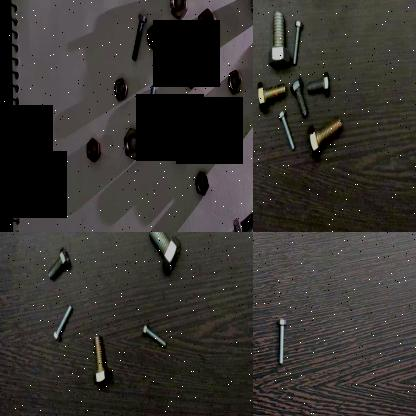Bolts: (146, 232, 187, 281), (306, 118, 342, 166), (267, 8, 289, 74), (90, 332, 112, 390), (46, 243, 70, 289), (253, 80, 288, 110), (130, 9, 148, 64), (51, 302, 73, 344), (140, 320, 168, 350), (290, 76, 308, 122), (290, 14, 305, 69), (145, 83, 159, 139), (307, 69, 332, 97), (274, 318, 288, 364), (230, 207, 253, 232)
NUTS: (194, 6, 218, 48), (164, 122, 186, 164), (123, 124, 143, 164), (203, 115, 222, 149), (112, 76, 130, 107), (227, 66, 243, 98), (168, 0, 186, 27), (223, 116, 238, 147), (195, 169, 209, 200), (148, 22, 161, 55), (184, 62, 198, 92), (90, 137, 102, 161)
